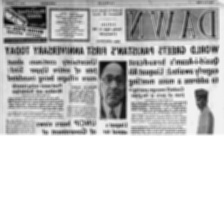news_paper: (0, 0, 224, 135)
